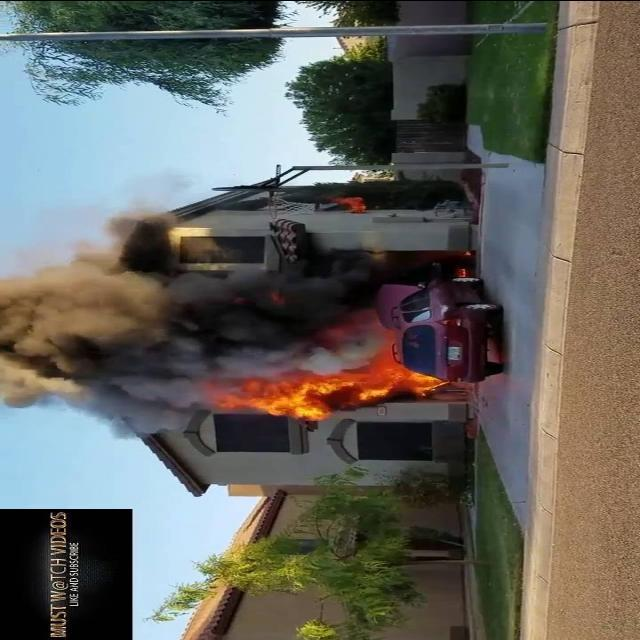Fire: (214, 361, 442, 425), (327, 192, 372, 216)
